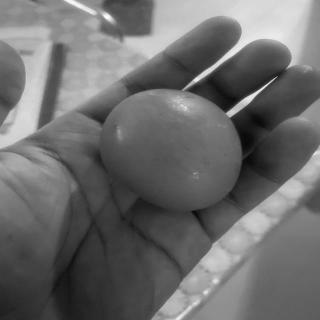Telur: (98, 89, 245, 216)
